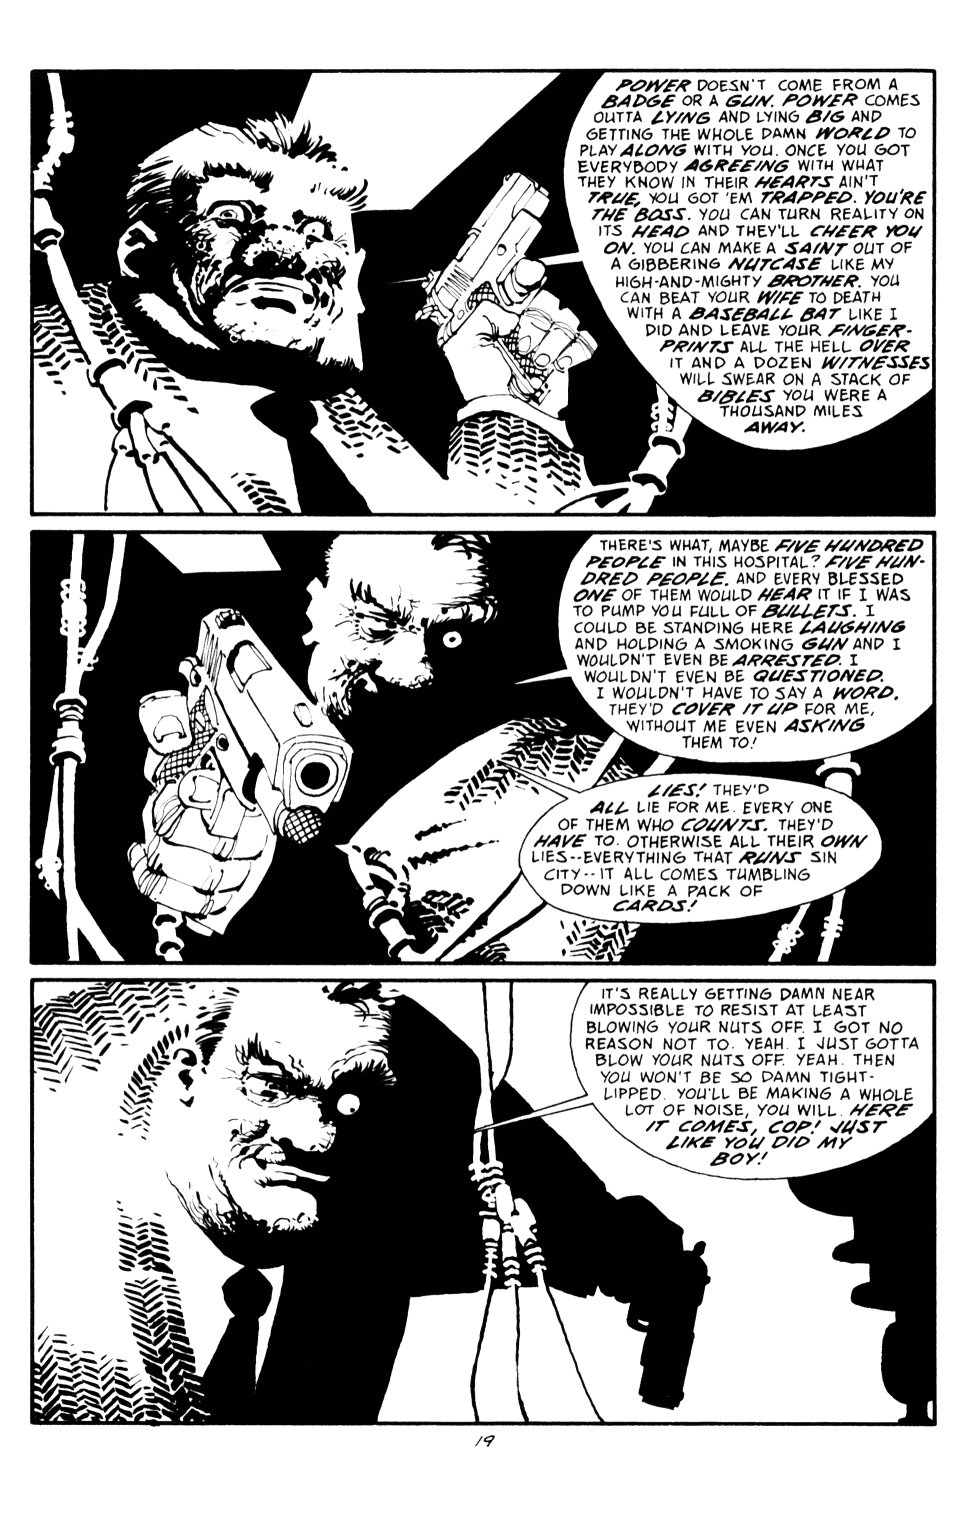Baloon: (559, 73, 947, 452), (543, 536, 936, 761), (535, 971, 940, 1180), (524, 775, 877, 915)
Vignetta: (29, 71, 938, 524), (26, 978, 940, 1427), (29, 527, 938, 966)
